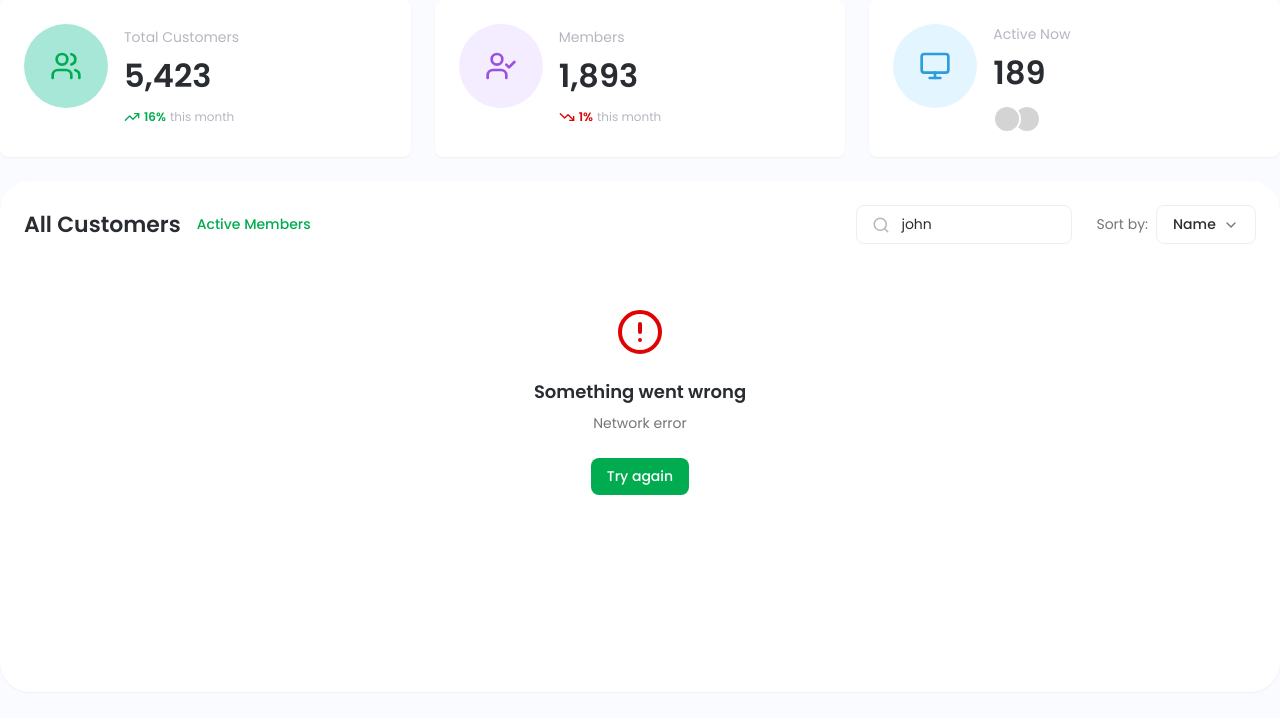
it: CustomersPage Integration › retries fetch on retry button click
Check: the text "Network error" is shown, box 593,413 -> 687,434
Click the button "Try again". click: (640, 476)
box: 591,458 -> 689,495
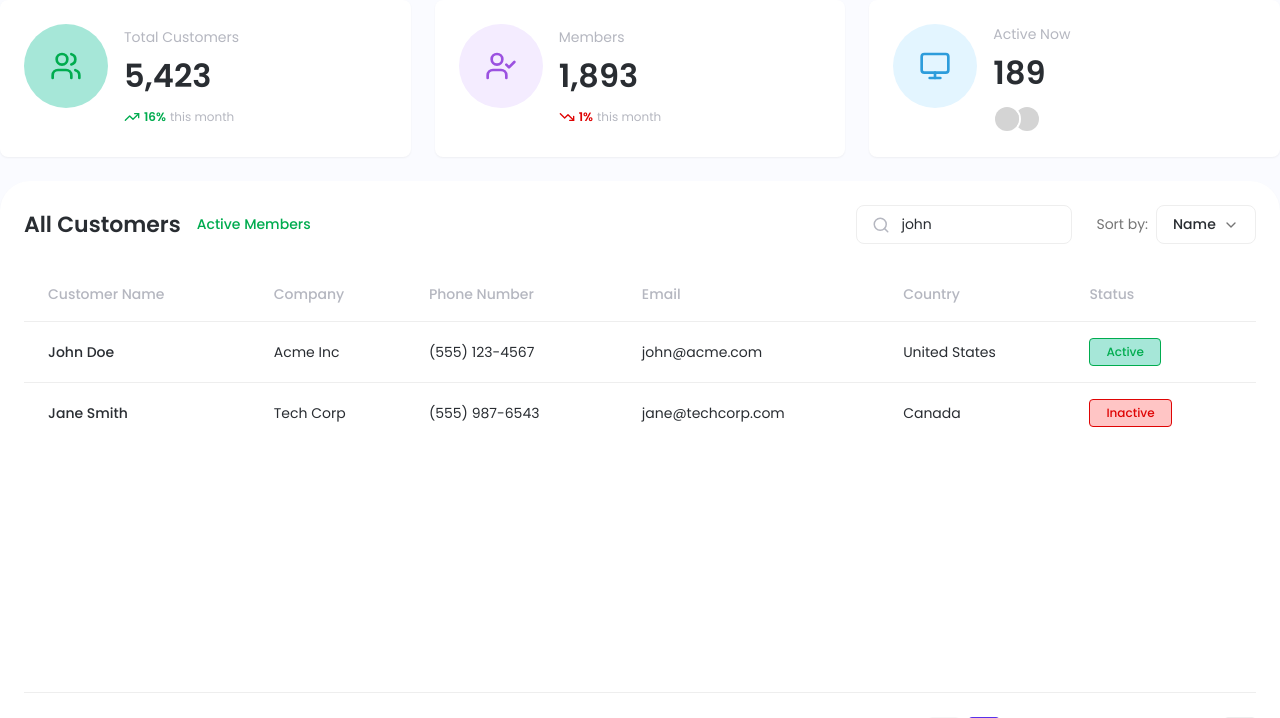
Check: the text "John Doe" is shown, box 24,322 -> 258,382
